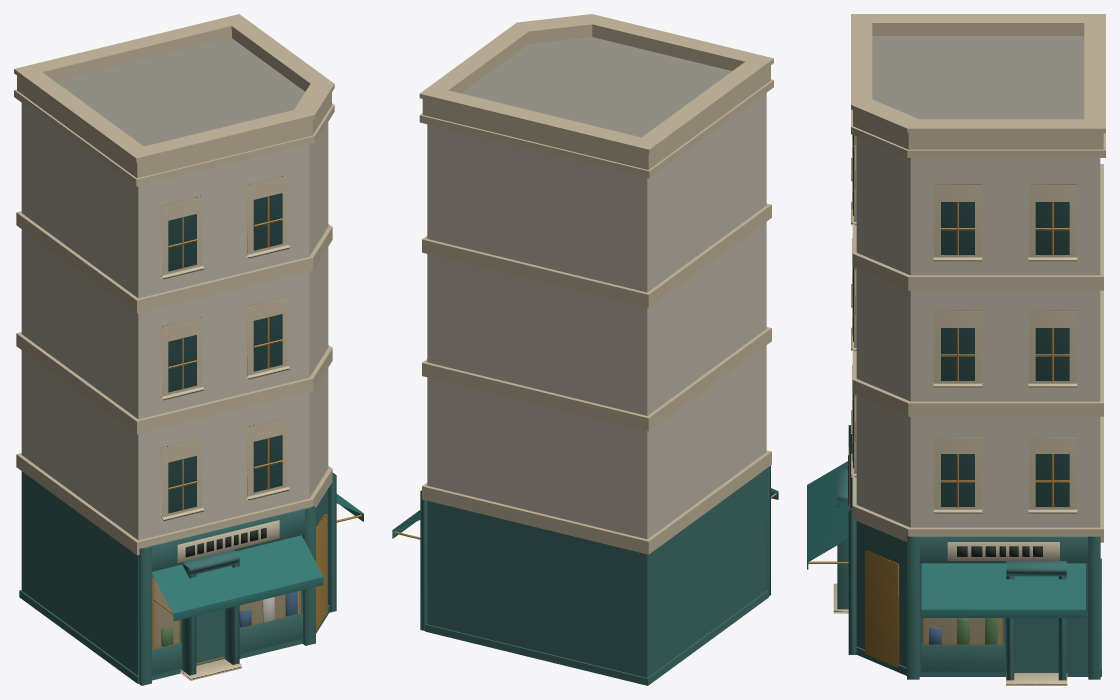
File: city_corner_4.glb
3 renders of one model, left to right at view 1: azimuth 30°, elevation 25°; view 2: azimuth 150°, elevation 25°; view 3: azimuth 270°, elevation 25°, orthographic. The views are drawn at different scales.
Visible parts, largest first — view 1: city_corner_4; view 2: city_corner_4; view 3: city_corner_4.
Boxes of the visible parts, x1,y1,x2,y2 form: city_corner_4: (14, 14, 363, 685); city_corner_4: (392, 14, 778, 685); city_corner_4: (807, 14, 1105, 685).
Bounding box in the file's own units: 5.54 × 10.69 × 5.26.
